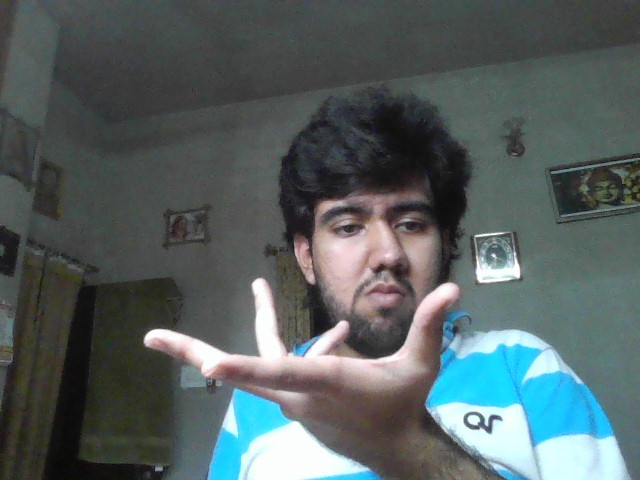What: (144, 276, 459, 450)
